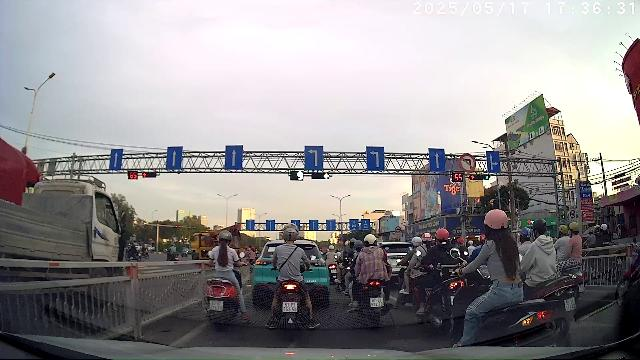123a-cam-re-trai: (459, 154, 475, 173)
